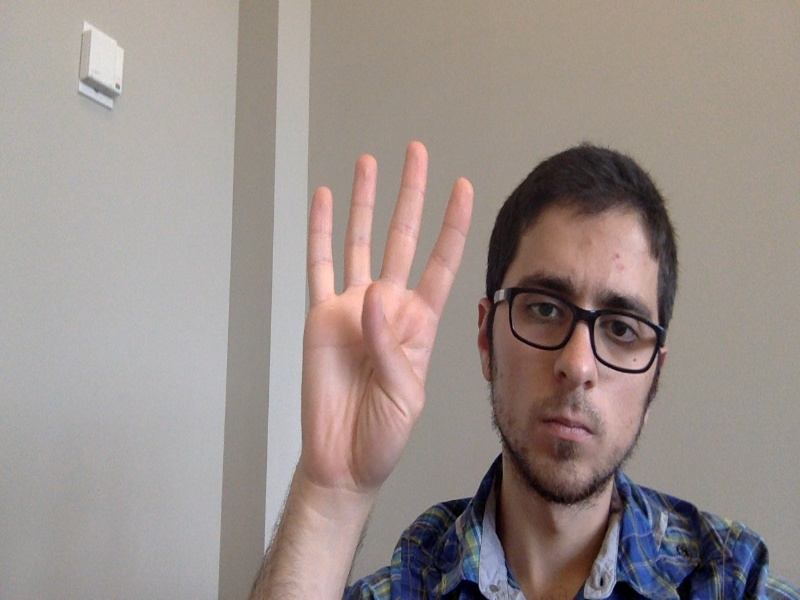4-hand: (303, 140, 476, 481)
